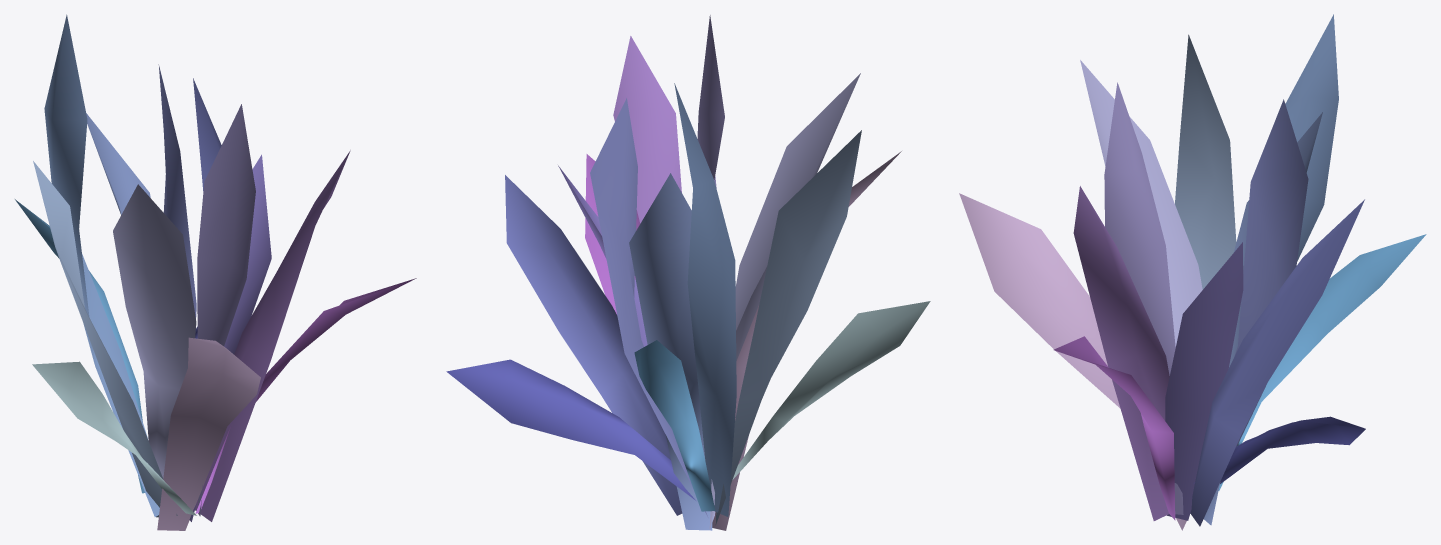
3 views of the same model, side by side, from view 1: azimuth 30°, elevation 25°; view 2: azimuth 150°, elevation 25°; view 3: azimuth 270°, elevation 25° (orthographic). The views are drawn at different scales.
Parts seen in each view (by area): view 1: SM_BS_Snakeplant_120cm_HD; view 2: SM_BS_Snakeplant_120cm_HD; view 3: SM_BS_Snakeplant_120cm_HD.
Boxes of the visible parts, left/top/right/bottom form: SM_BS_Snakeplant_120cm_HD: left=15, top=14, right=416, bottom=530; SM_BS_Snakeplant_120cm_HD: left=446, top=15, right=930, bottom=530; SM_BS_Snakeplant_120cm_HD: left=959, top=14, right=1426, bottom=530.
Bounding box in the file's own units: 37.21 × 33.63 × 43.34.
